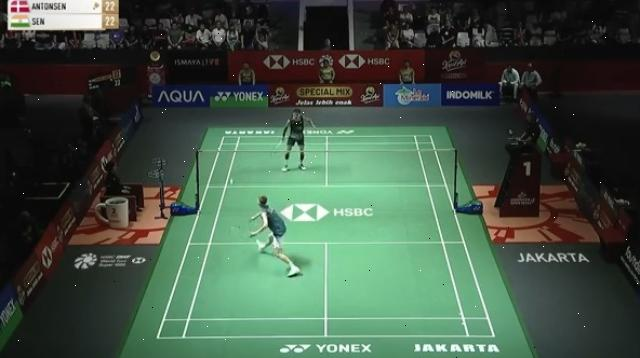Shuttlecock: (228, 176, 235, 188)
